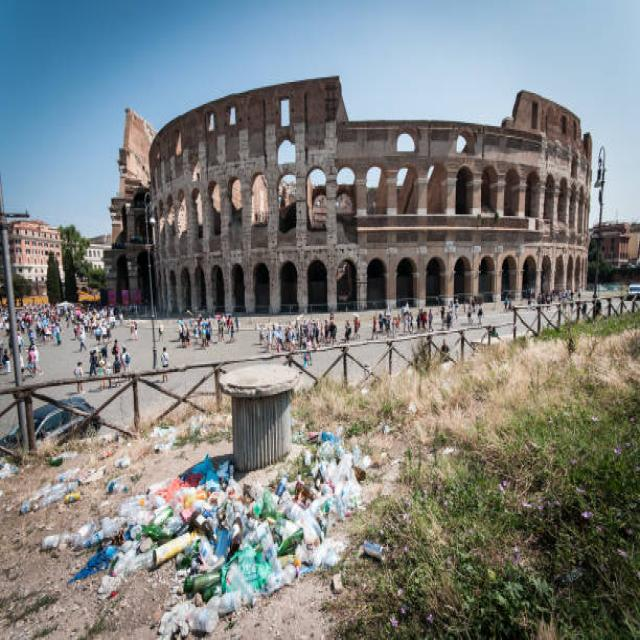trash: (29, 441, 357, 640)
